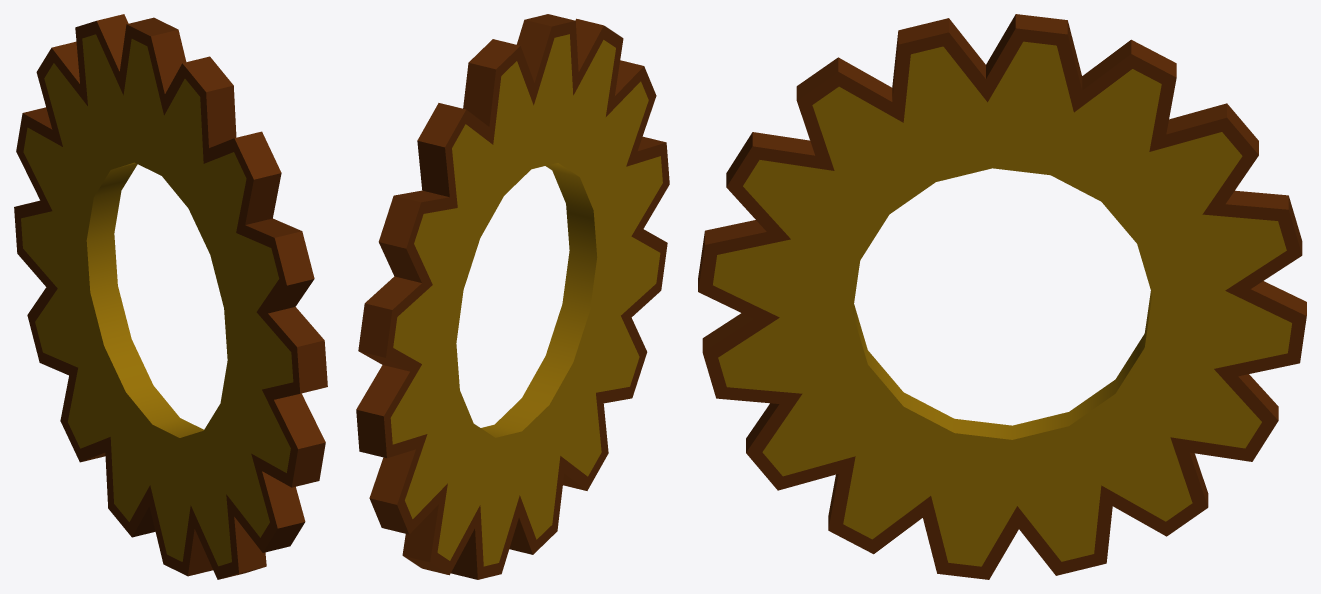
File: 大齿轮.fbx
3 renders of one model, left to right at view 1: azimuth 30°, elevation 25°; view 2: azimuth 150°, elevation 25°; view 3: azimuth 270°, elevation 25°, orthographic. The views are drawn at different scales.
Visible parts, largest first — view 1: 齿轮.003; view 2: 齿轮.003; view 3: 齿轮.003.
Part boxes in pixels (box(x1,y1,x2,y2)): 齿轮.003: box(14, 14, 327, 579); 齿轮.003: box(356, 14, 669, 579); 齿轮.003: box(698, 14, 1306, 579).
Size of the model in its own units: 200 by 3584 by 3584.
